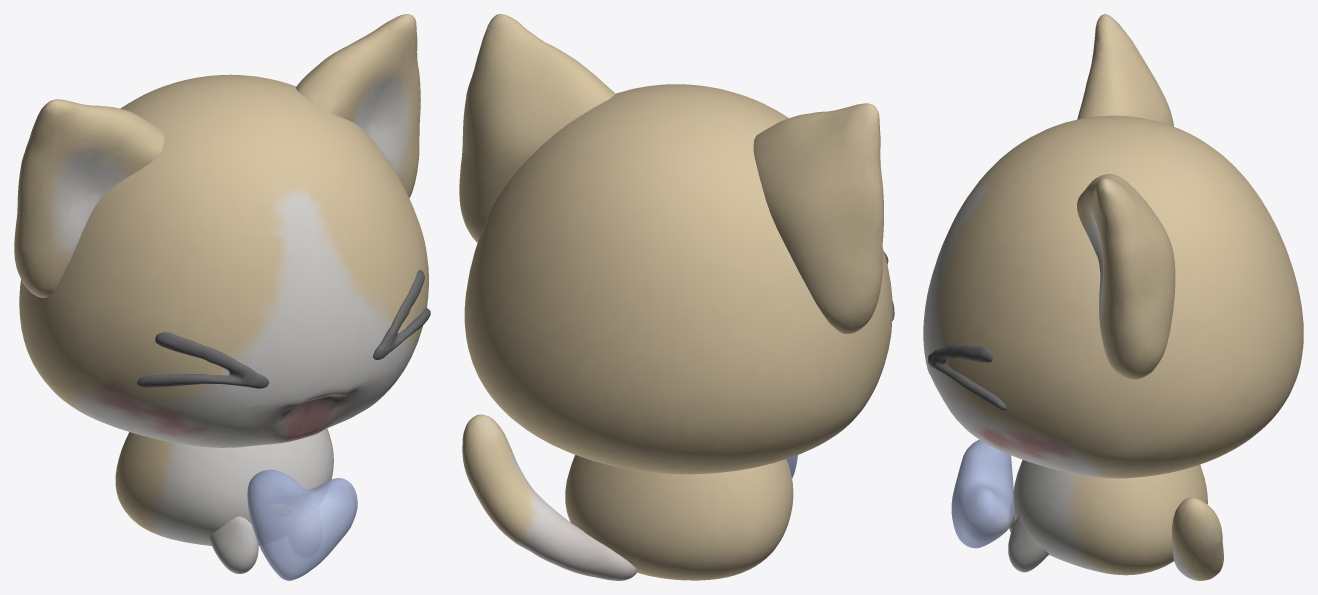
3 renders of one model, left to right at view 1: azimuth 30°, elevation 25°; view 2: azimuth 150°, elevation 25°; view 3: azimuth 270°, elevation 25°, orthographic. The views are drawn at different scales.
Parts seen in each view (by area): view 1: centre; view 2: centre; view 3: centre.
Part boxes in pixels (left/top/right/bottom): centre: left=14, top=14, right=430, bottom=580; centre: left=459, top=14, right=894, bottom=580; centre: left=923, top=14, right=1303, bottom=580.
Size of the model in its own units: 1.15 by 1.31 by 0.9854.
